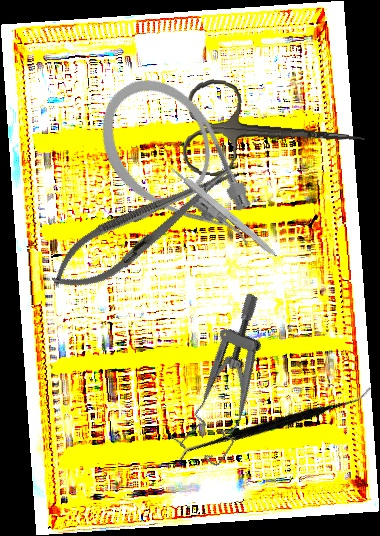Cannula: (78, 58, 279, 284)
Iris Scissors: (181, 77, 369, 189)
Needle Holder: (40, 151, 245, 306)
Scalpel Handle: (170, 164, 280, 259)
Spatula Surgical: (174, 322, 374, 530)
Speculum: (156, 291, 308, 470)
